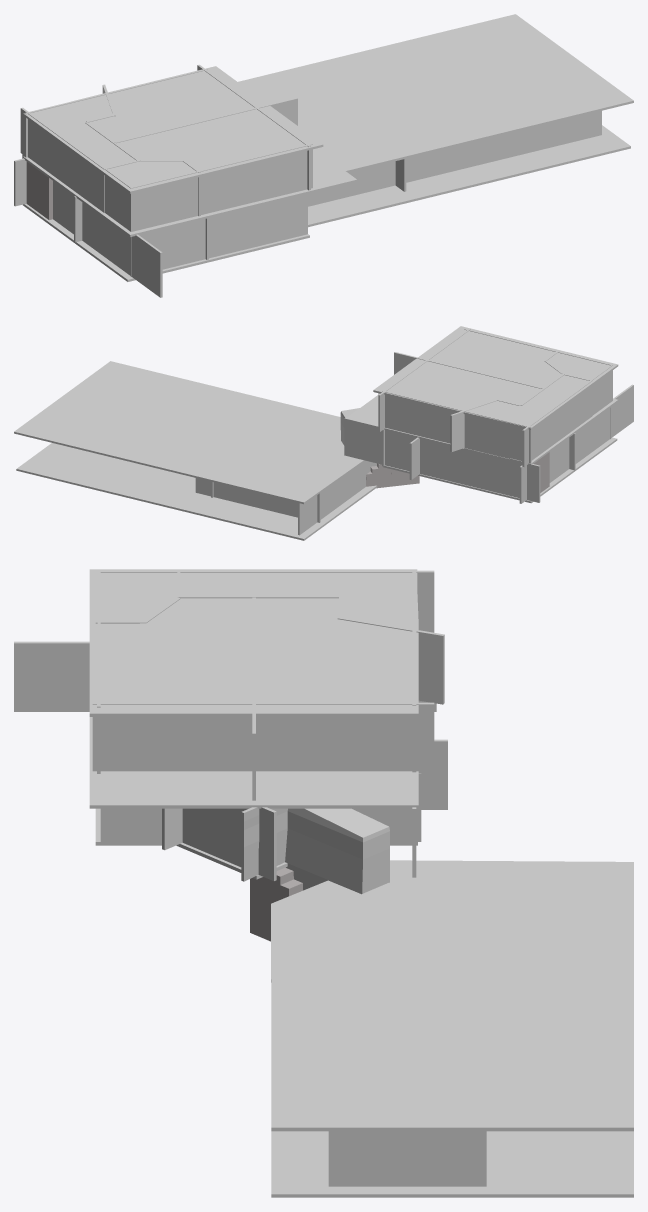
File: house final.fbx
3 views of the same model, one above another, from view 1: azimuth 30°, elevation 25°; view 2: azimuth 150°, elevation 25°; view 3: azimuth 270°, elevation 25° (orthographic). The views are drawn at different scales.
Visible parts, largest first — view 1: house, top floor, stairs; view 2: house, top floor, stairs; view 3: house, top floor, stairs.
Part boxes in pixels (bbox=[...]): house: bbox=[14, 14, 633, 297]; top floor: bbox=[20, 64, 357, 237]; stairs: bbox=[26, 162, 52, 219]; house: bbox=[14, 361, 633, 540]; top floor: bbox=[345, 326, 618, 466]; stairs: bbox=[366, 452, 549, 492]; house: bbox=[14, 641, 633, 1197]; top floor: bbox=[89, 569, 444, 808]; stairs: bbox=[250, 867, 302, 941].
Size of the model in its own units: 3330 by 769 by 2037.
